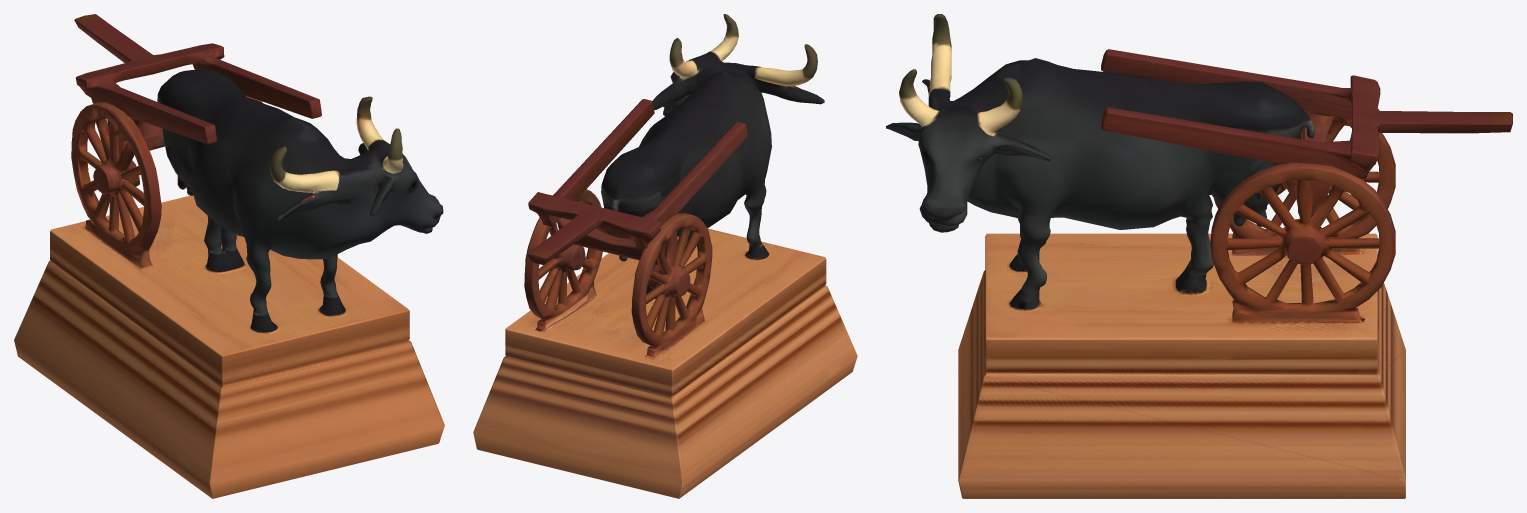
Rendered from award_workhorse.glb.
3 renders of one model, left to right at view 1: azimuth 30°, elevation 25°; view 2: azimuth 150°, elevation 25°; view 3: azimuth 270°, elevation 25°, orthographic. The views are drawn at different scales.
Size of the model in its own units: 0.9432 by 1.32 by 1.91.
1 material, 1 textured.
